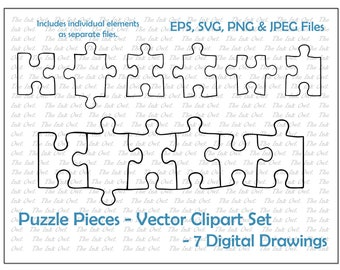puzzle piece: (32, 122, 92, 201), (251, 115, 309, 196), (62, 39, 118, 107), (171, 42, 224, 104), (227, 48, 282, 104), (280, 40, 326, 101), (125, 38, 170, 100), (12, 47, 60, 101)
